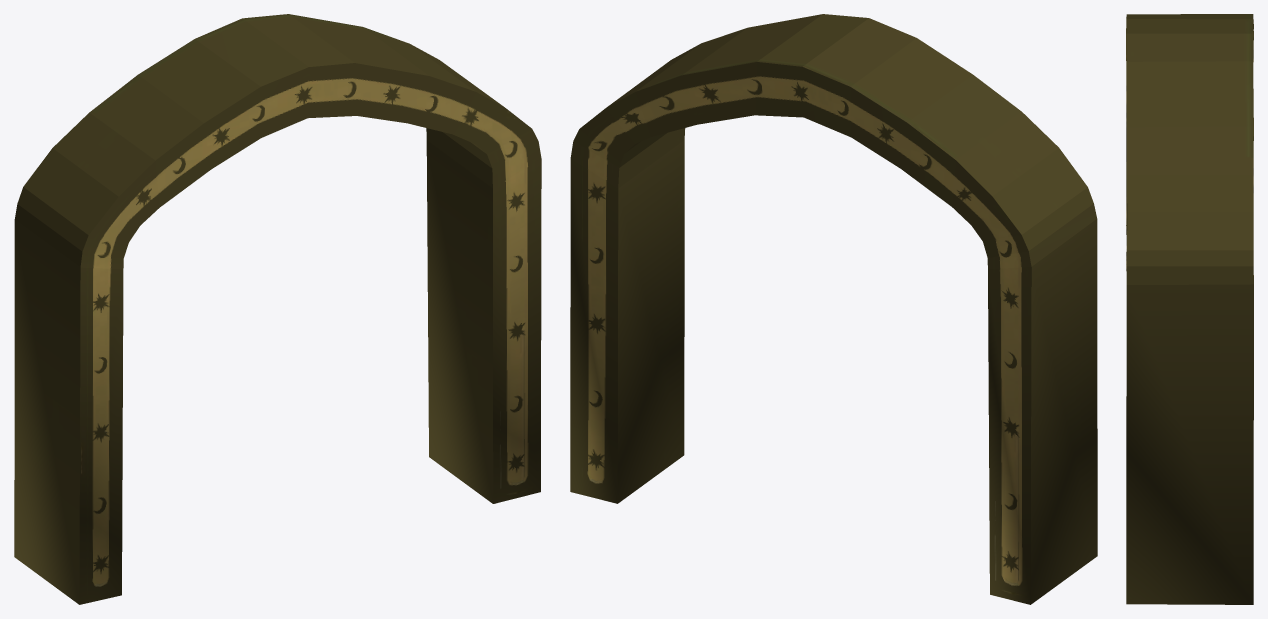
Rendered from doorFrame.glb.
3 renders of one model, left to right at view 1: azimuth 30°, elevation 25°; view 2: azimuth 150°, elevation 25°; view 3: azimuth 270°, elevation 25°, orthographic. The views are drawn at different scales.
Visible parts, largest first — view 1: doorFrameLP; view 2: doorFrameLP; view 3: doorFrameLP.
Boxes of the visible parts, x1,y1,x2,y2 form: doorFrameLP: (14, 14, 541, 604); doorFrameLP: (570, 14, 1097, 604); doorFrameLP: (1126, 14, 1253, 604).
Size of the model in its own units: 2 by 2 by 0.5.
Materials: 1 (1 with a texture image).
